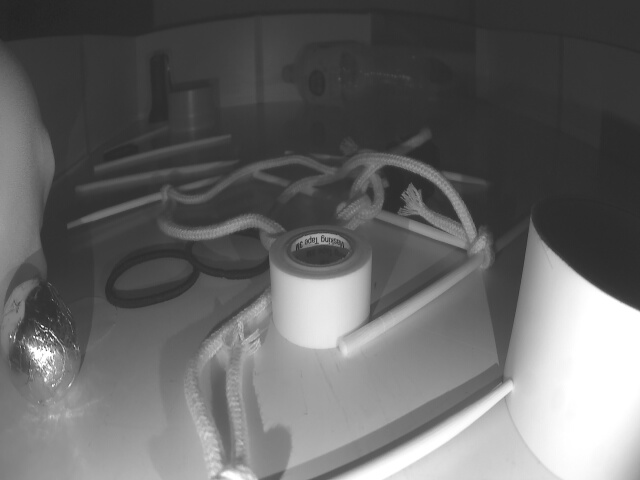Live: (1, 279, 76, 403)
